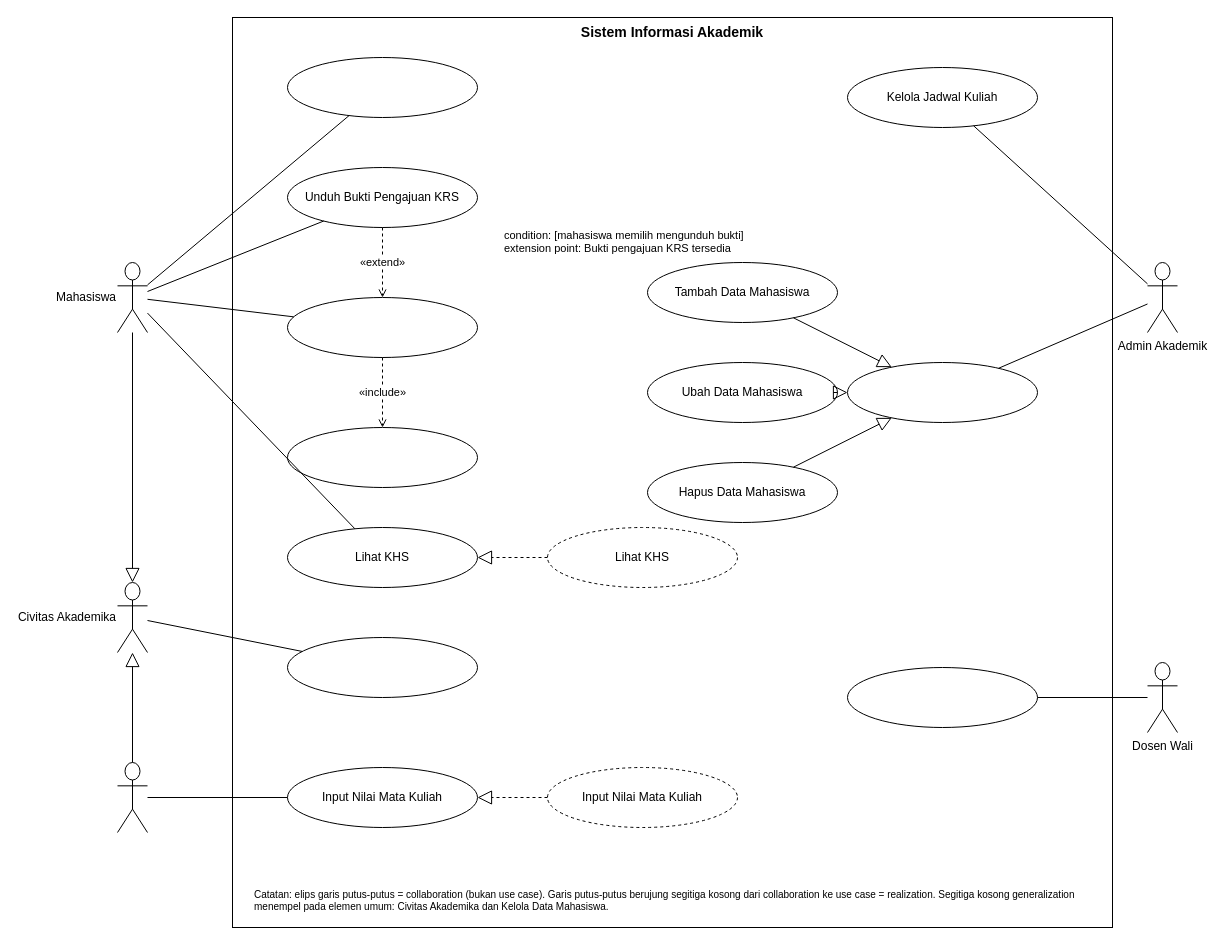
Image size: 1224x945. Some labels were removed from this diagram. Here are the shapes that lost their labels. From the top down, the centre of each, then its label:
At point (382, 87): "Lihat Jadwal Kuliah".
At point (382, 327): "Ajukan KRS".
At point (942, 392): "Kelola Data Mahasiswa".
At point (382, 457): "Validasi KRS".
At point (382, 667): "Lihat Kalender Akademik".
At point (942, 697): "Proses Keputusan KRS".
At point (132, 797): "Dosen".
